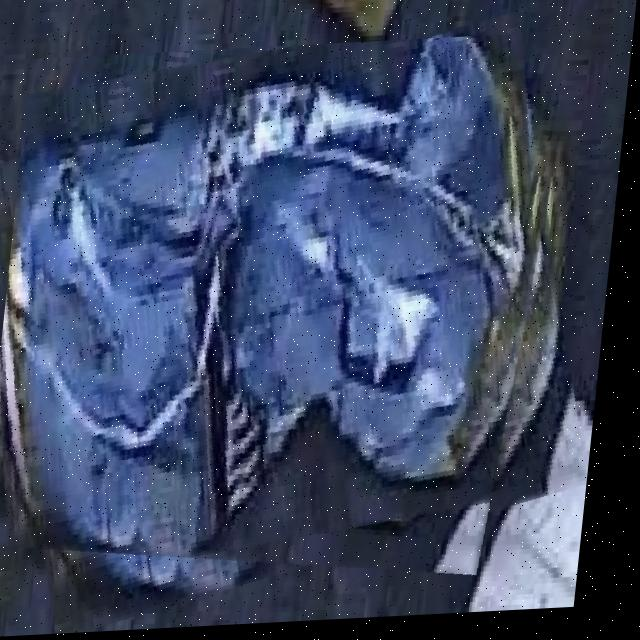can: (11, 43, 546, 568)
